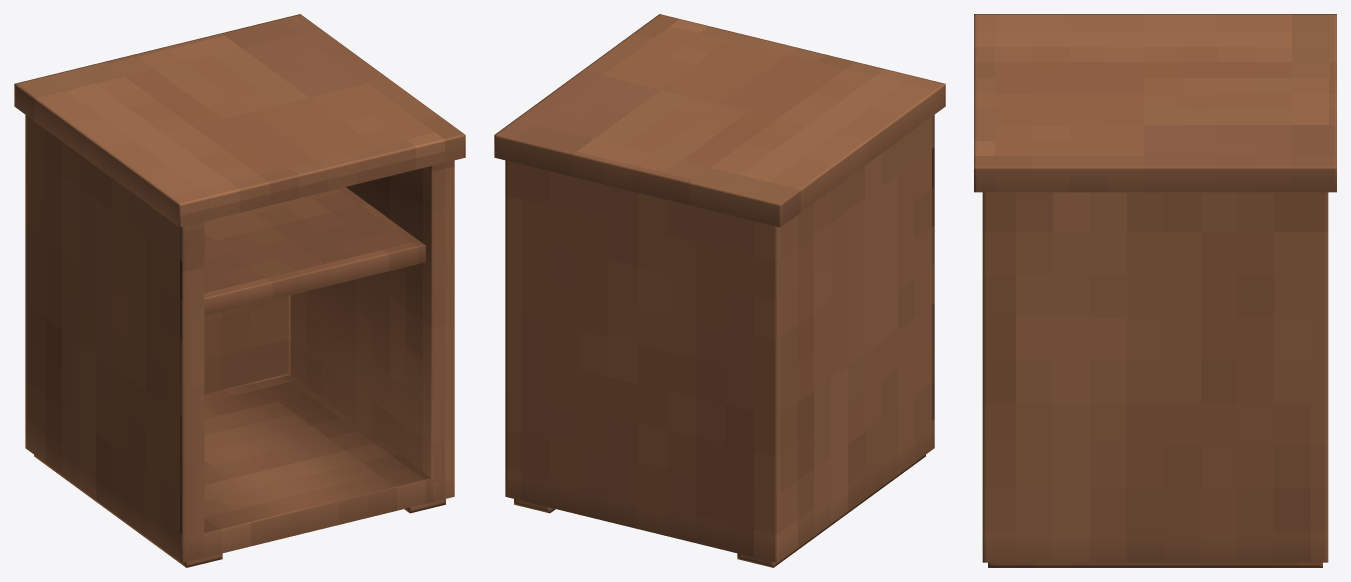
The model's file is a_com_building_b01_castershelf01.gltf.
3 views of the same model, side by side, from view 1: azimuth 30°, elevation 25°; view 2: azimuth 150°, elevation 25°; view 3: azimuth 270°, elevation 25° (orthographic). The views are drawn at different scales.
Parts seen in each view (by area): view 1: a_com_building_b01_castershelf01_mesh_shape:a_com_building_b; view 2: a_com_building_b01_castershelf01_mesh_shape:a_com_building_b; view 3: a_com_building_b01_castershelf01_mesh_shape:a_com_building_b.
Boxes of the visible parts, box(x1,y1,x2,y2) form: a_com_building_b01_castershelf01_mesh_shape:a_com_building_b: box(14, 14, 465, 567); a_com_building_b01_castershelf01_mesh_shape:a_com_building_b: box(494, 14, 945, 567); a_com_building_b01_castershelf01_mesh_shape:a_com_building_b: box(974, 14, 1336, 567).
Bounding box in the file's own units: 0.7581 × 0.9405 × 0.7581.
Materials: 1 (1 with a texture image).
